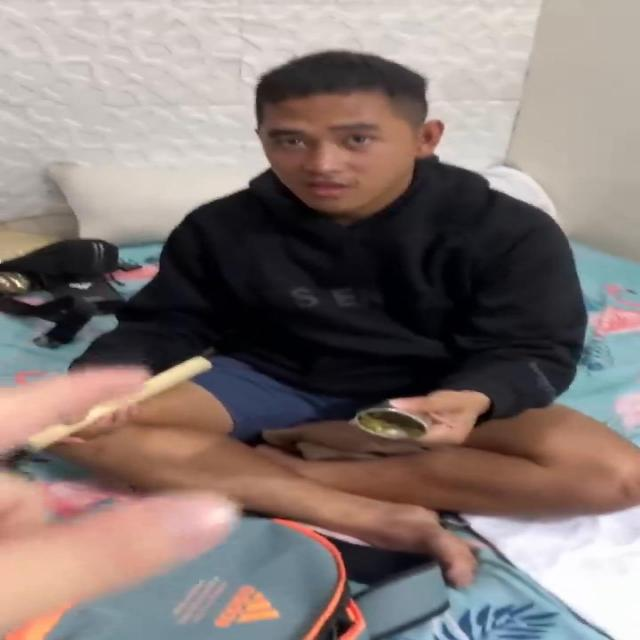hammer: (0, 356, 217, 474)
